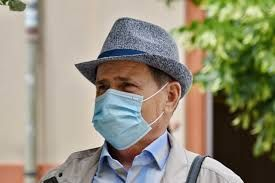with-mask: (85, 61, 182, 152)
